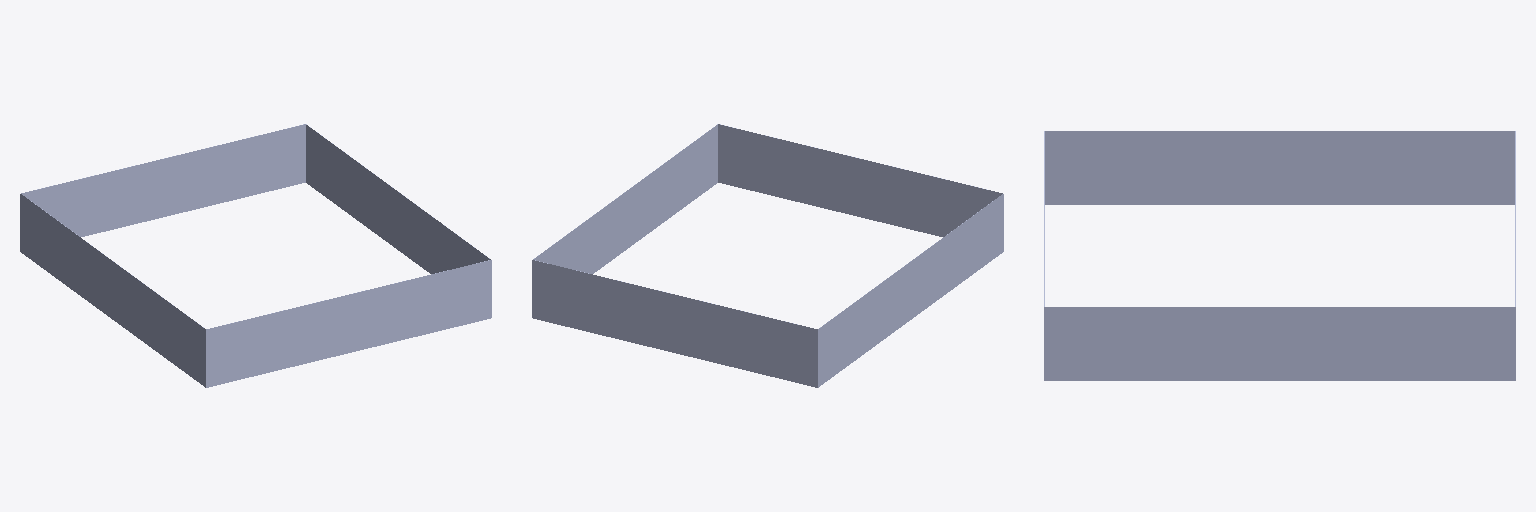
URDF robot description (Outside_Wall):
<?xml version="1.0" encoding="utf-8"?>
<!-- This URDF was automatically created by SolidWorks to URDF Exporter! Originally created by [author] ([email redacted]) 
     Commit Version: 1.5.1-0-g916b5db  Build Version: 1.5.7152.31018
     For more information, please see http://wiki.ros.org/sw_urdf_exporter -->
<robot
  name="Outside_Wall">
  <link
    name="base_link">
    <inertial>
      <origin
        xyz="3.2425955380315 -6.18481831144165 1.5"
        rpy="0 0 0" />
      <mass
        value="1949.97915540529" />
      <inertia
        ixx="94963.2243101229"
        ixy="-1.82036816176458E-09"
        ixz="-2.31447986381892E-10"
        iyy="79596.9302053139"
        iyz="-8.53139385485758E-11"
        izz="171635.185782329" />
    </inertial>
    <visual>
      <origin
        xyz="0 0 0"
        rpy="0 0 0" />
      <geometry>
        <mesh
          filename="package://Outside_Wall/meshes/base_link.STL" />
      </geometry>
      <material
        name="">
        <color
          rgba="0.792156862745098 0.819607843137255 0.933333333333333 1" />
      </material>
    </visual>
    <collision>
      <origin
        xyz="0 0 0"
        rpy="0 0 0" />
      <geometry>
        <mesh
          filename="package://Outside_Wall/meshes/base_link.STL" />
      </geometry>
    </collision>
  </link>
</robot>

--- What the picture shows (computed from the rendered views, not written in the file) ---
Views: 3 orthographic renders of the robot side by side, from view 1: azimuth 30°, elevation 25°; view 2: azimuth 150°, elevation 25°; view 3: azimuth 270°, elevation 25°.
Model Outside_Wall with 1 links and 0 joints (none), rooted at base_link, posed every joint at zero.
Visible links, largest first — view 1: base_link; view 2: base_link; view 3: base_link.
Link boxes in pixels (x1,y1,x2,y2): base_link: [20, 124, 491, 387]; base_link: [532, 124, 1003, 387]; base_link: [1044, 131, 1515, 380].
Bounding box of the posed robot: 15.29 × 17.23 × 3 m (x, y, z).
1 mesh visuals loaded from 1 distinct referenced files (1 binary STL).